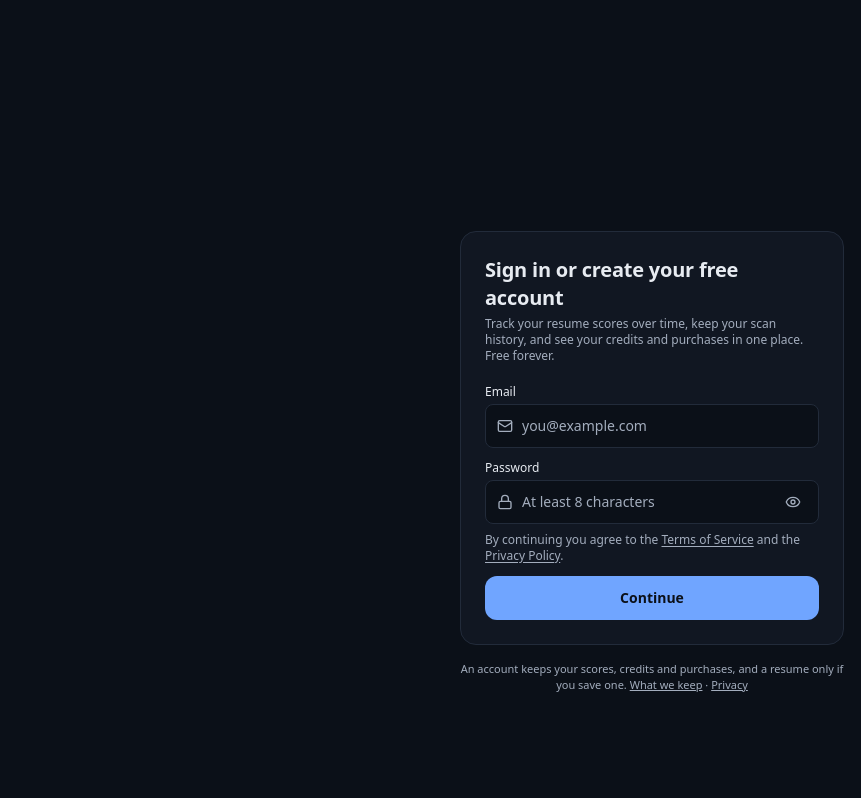
Test: the password path: sign in first, a new account only when asked › the offer, pressed, makes the account with the Terms and lands where it was headed
The width and height of the screenshot is (861, 798).
Type "new@example.com" into the field labelled "Email" at (652, 426), box [485,404,819,448]
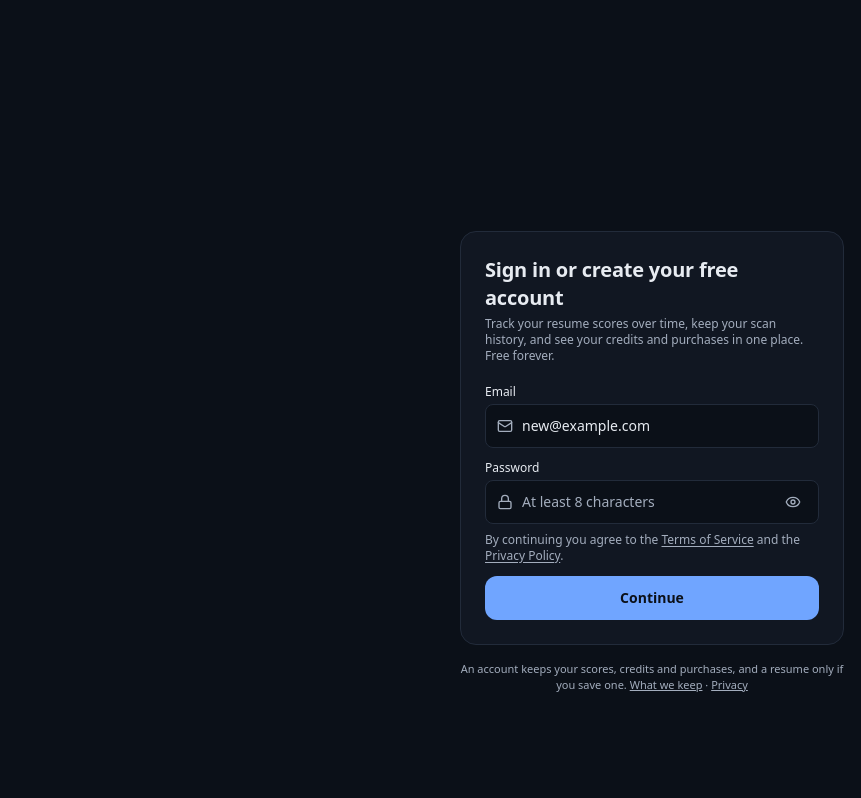
Type "longenough1" into the password field labelled "Password" at (652, 502), box [485,480,819,524]
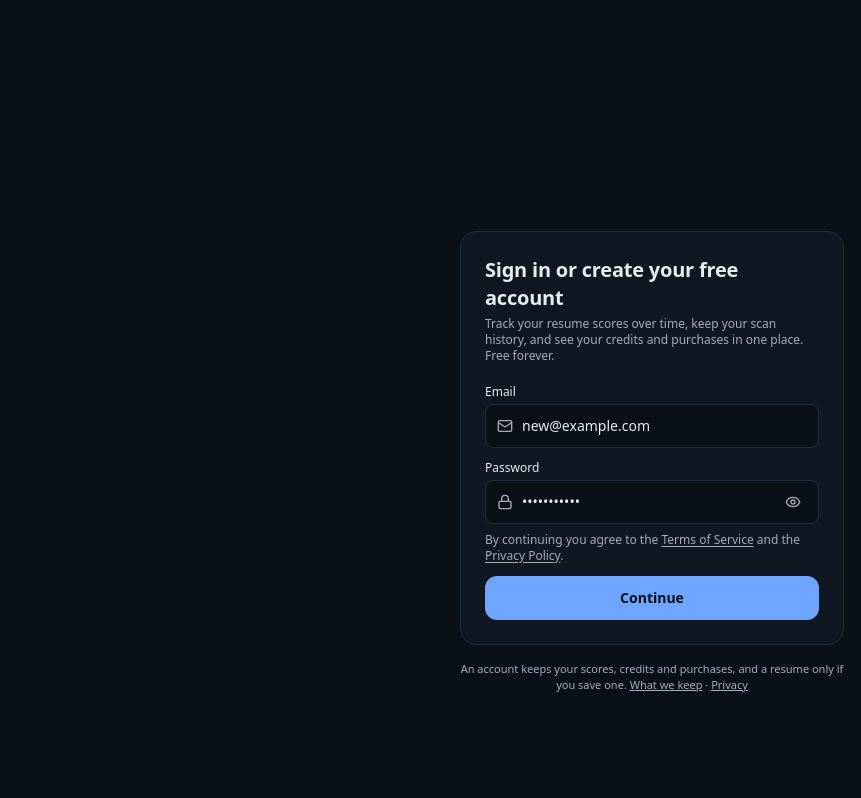
Click the button "Continue" at (652, 598), box [485,576,819,620]
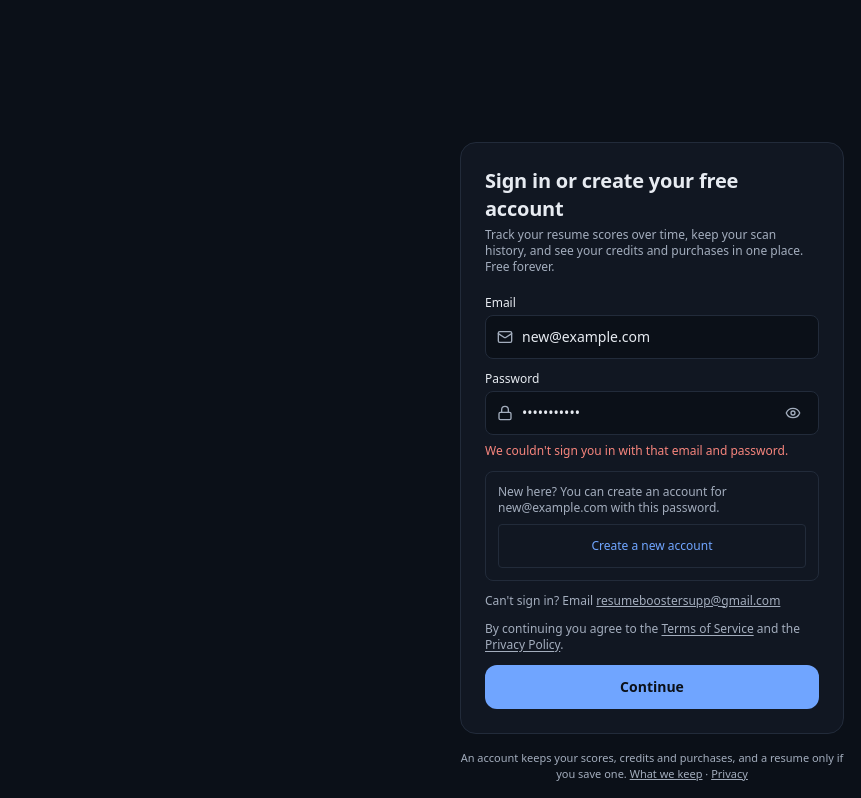
Click the button "Create a new account" at (652, 546), box [498,524,806,568]
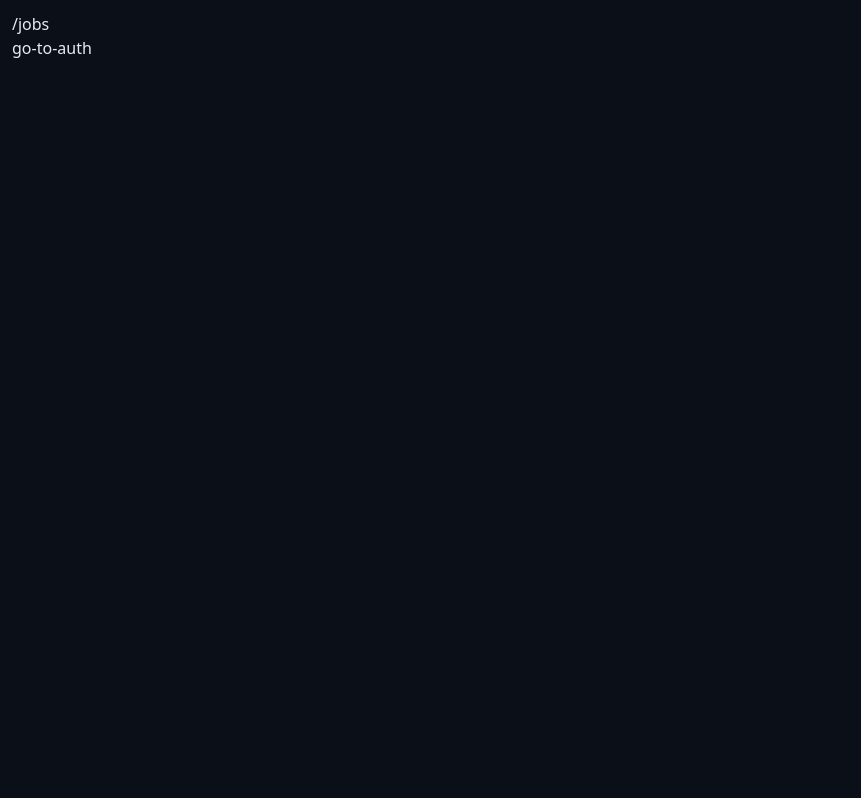
Expected: the text with test id "where" reads "/jobs", [12,13,49,35]
